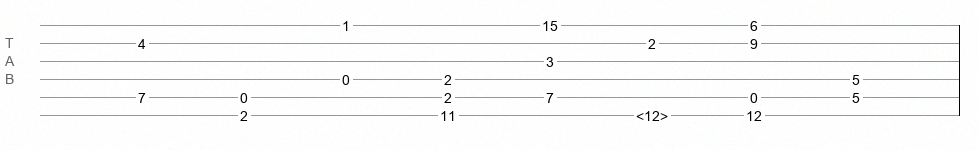0: (240, 90, 248, 100), (342, 72, 350, 82), (750, 90, 758, 100)
1: (342, 18, 350, 28)
11: (440, 108, 456, 118)
12: (746, 108, 762, 118)
15: (542, 18, 558, 28)
2: (240, 108, 248, 118), (444, 90, 452, 100), (444, 72, 452, 82), (648, 36, 656, 46)
3: (546, 54, 554, 64)
4: (138, 36, 146, 46)
5: (852, 90, 860, 100), (852, 72, 860, 82)
6: (750, 18, 758, 28)
7: (138, 90, 146, 100), (546, 90, 554, 100)
9: (750, 36, 758, 46)
harmonic: (636, 108, 668, 118)
